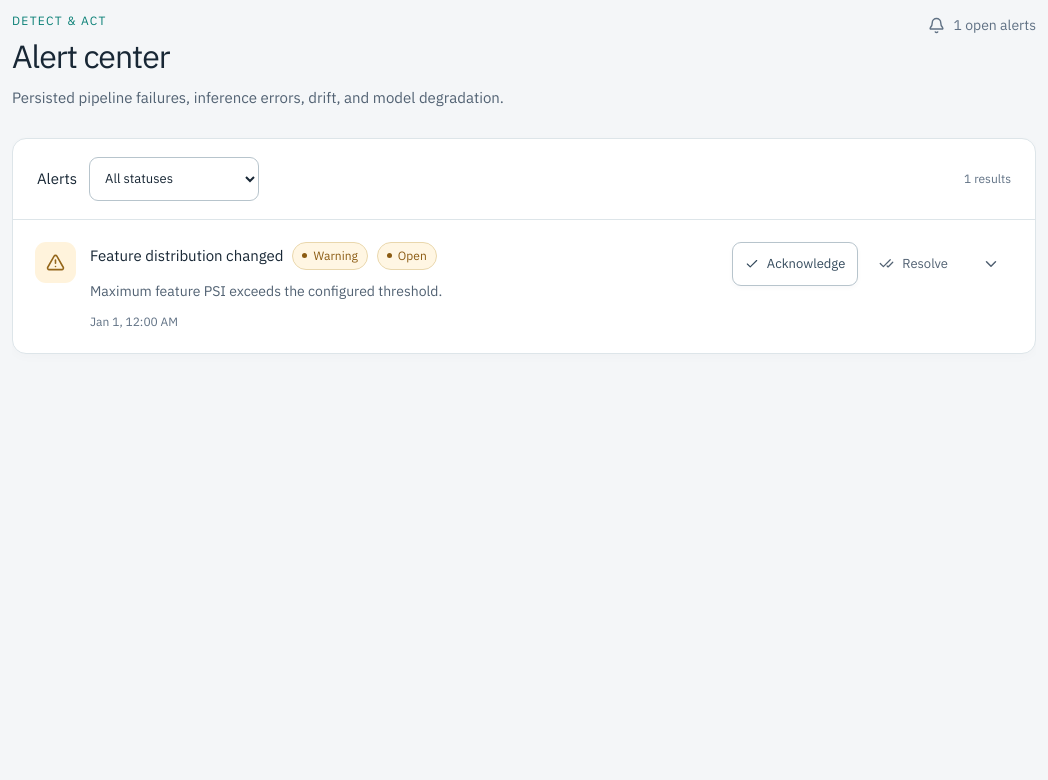
Test: persisted alert facts › uses the backend title, description, source, metric, threshold, and observed value
Expected: the text "Feature distribution changed" is shown, [90,245,284,267]
Expected: the text "Maximum feature PSI exceeds the configured threshold." is shown, [90,282,442,300]
Click the button named "Show details for alert alert-id".
click(991, 264)  # box [969,242,1013,286]
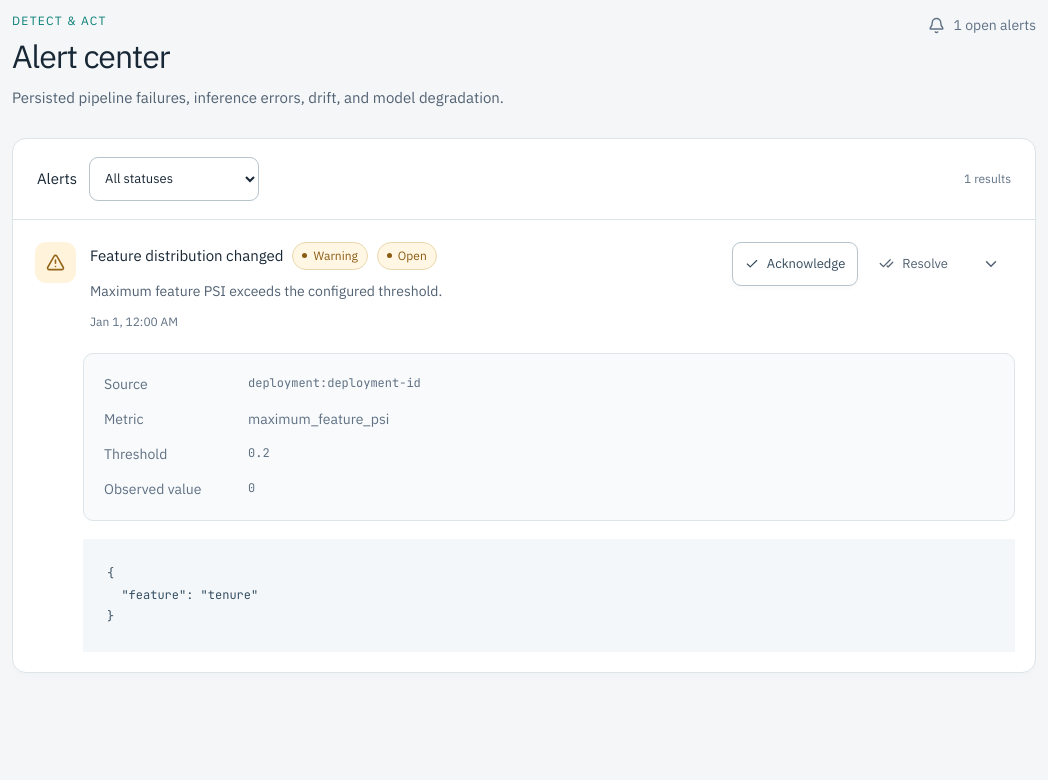
Now the text "deployment:deployment-id" is shown, box [248,375,421,391]
Now the text "maximum_feature_psi" is shown, box [248,410,389,428]
Now the text "0.2" is shown, box [248,445,270,461]
